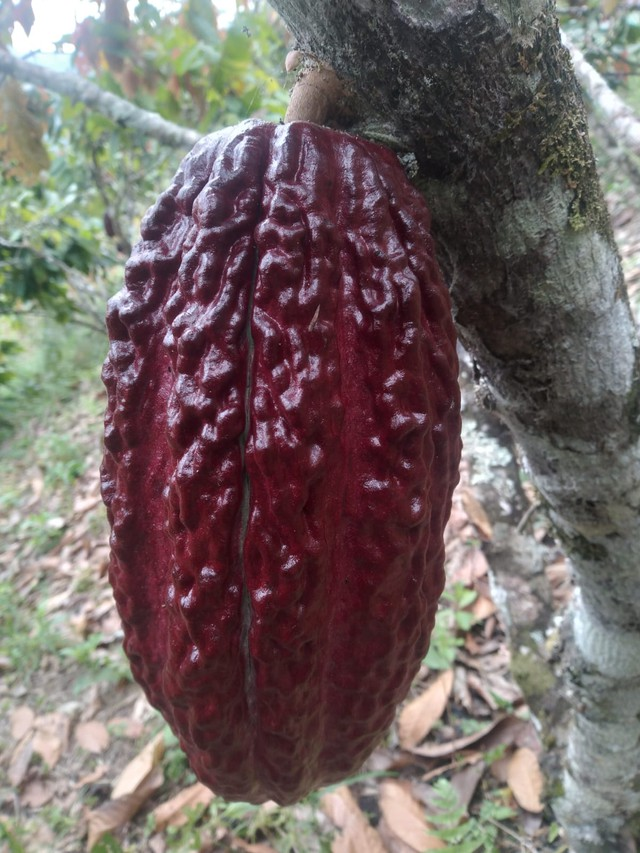Health: (90, 113, 474, 818)
